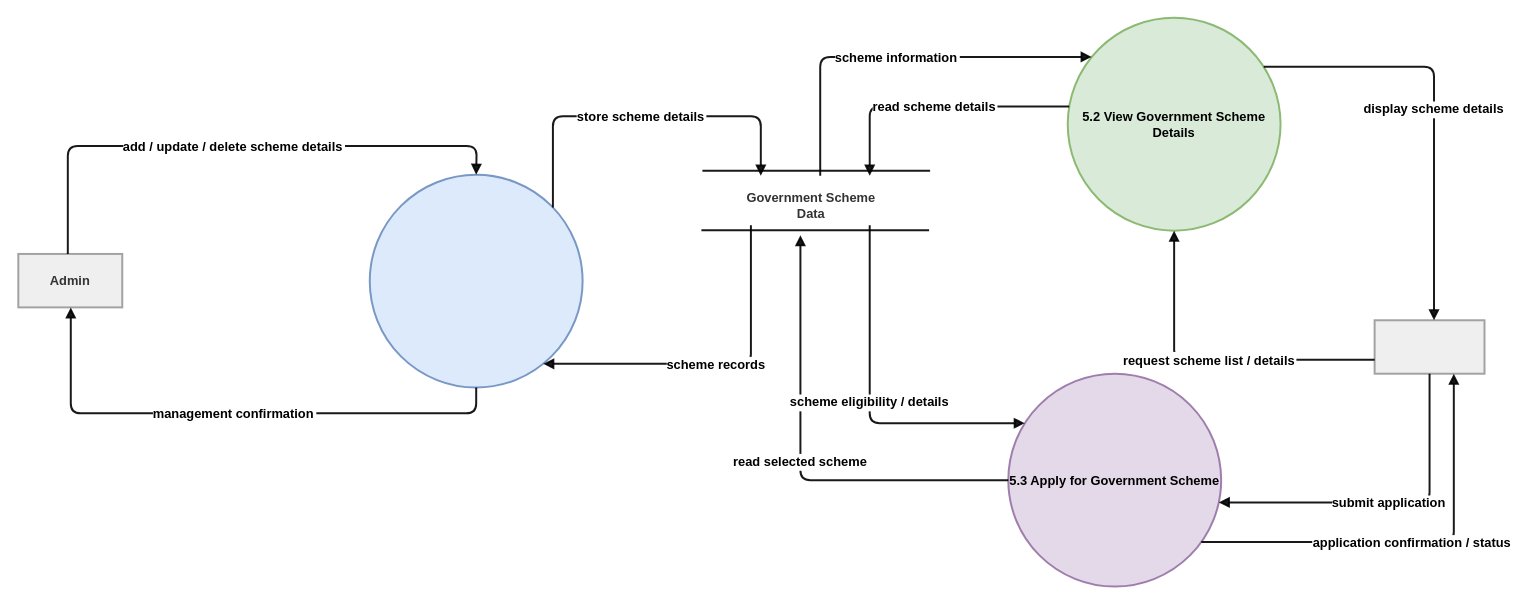
The diagram is 1529 pixels wide and 605 high, and some of its shapes have lost their labels. The shapes that lost their labels are listed below. From the top down, each one's centre as x and y in pixels, then its label:
At point 475,280: "5.1 Manage Government Scheme Details".
At point 1429,346: "Farmer".
